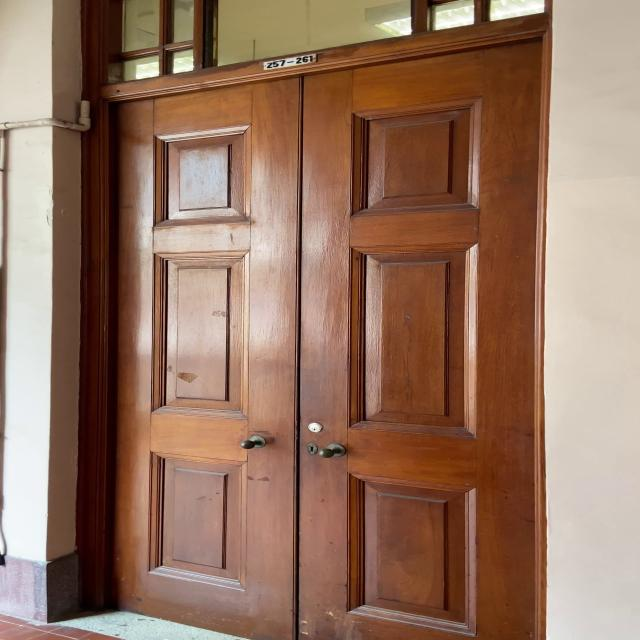room257: (259, 54, 316, 77)
room257door: (93, 13, 548, 640)
